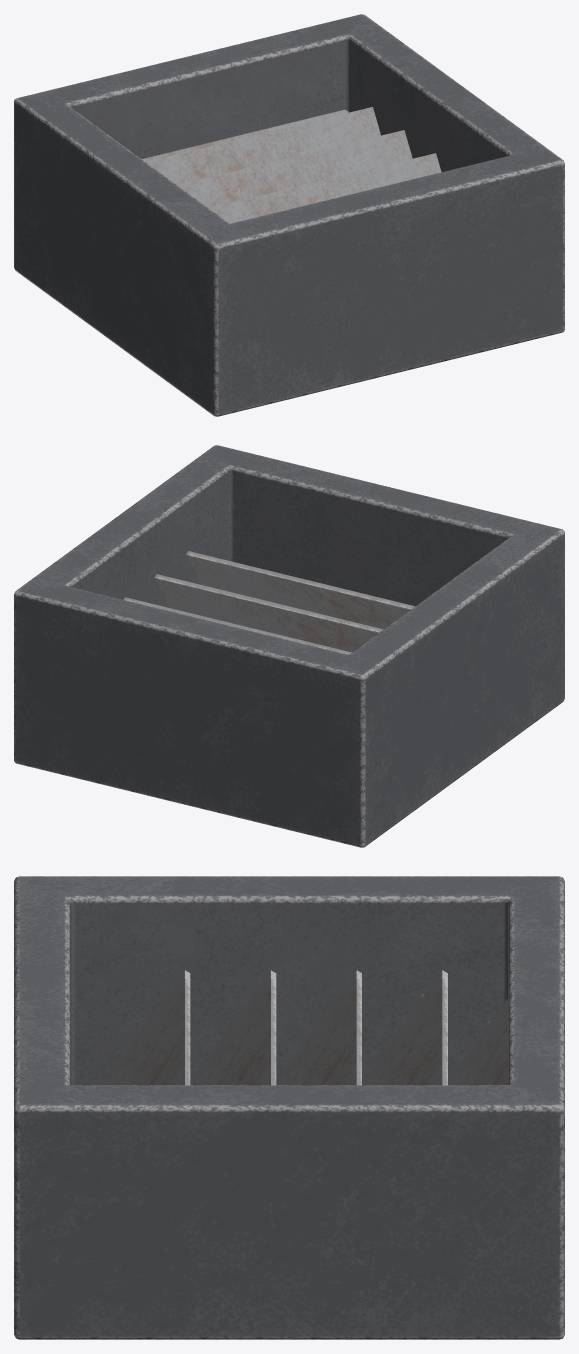
Rendered from PF_VentShrd.fbx.
3 renders of one model, top to bottom at view 1: azimuth 30°, elevation 25°; view 2: azimuth 150°, elevation 25°; view 3: azimuth 270°, elevation 25°, orthographic. The views are drawn at different scales.
Visible parts, largest first — view 1: SM_VentFanShrd, Plane; view 2: SM_VentFanShrd, Plane; view 3: SM_VentFanShrd, Plane.
Part boxes in pixels (x1,y1,x2,y2): SM_VentFanShrd: [14, 14, 564, 416]; Plane: [142, 107, 441, 223]; SM_VentFanShrd: [14, 445, 564, 847]; Plane: [123, 551, 414, 654]; SM_VentFanShrd: [14, 876, 564, 1339]; Plane: [101, 970, 508, 1085].
Bounding box in the file's own units: 100 × 47 × 100.
1 material, 1 textured.
